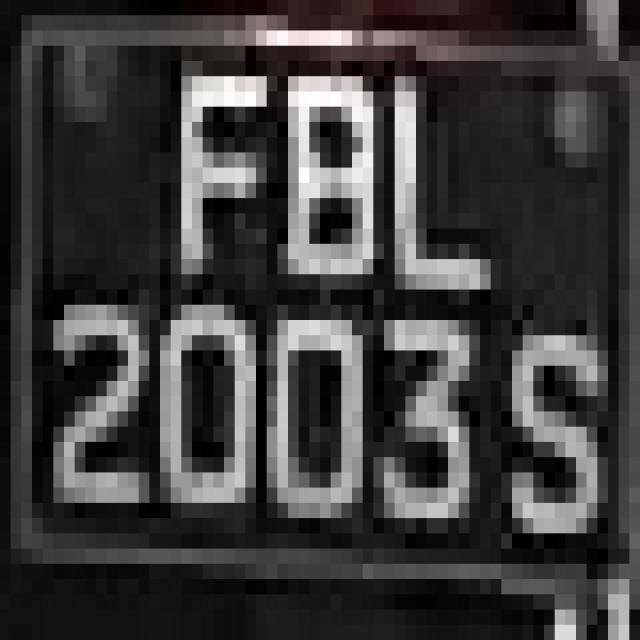0: (139, 290, 256, 548), (256, 290, 384, 518)
2: (43, 290, 138, 534)
3: (352, 290, 469, 548)
B: (267, 30, 384, 305)
F: (160, 46, 277, 320)
L: (374, 46, 502, 320)
S: (501, 289, 608, 564)
